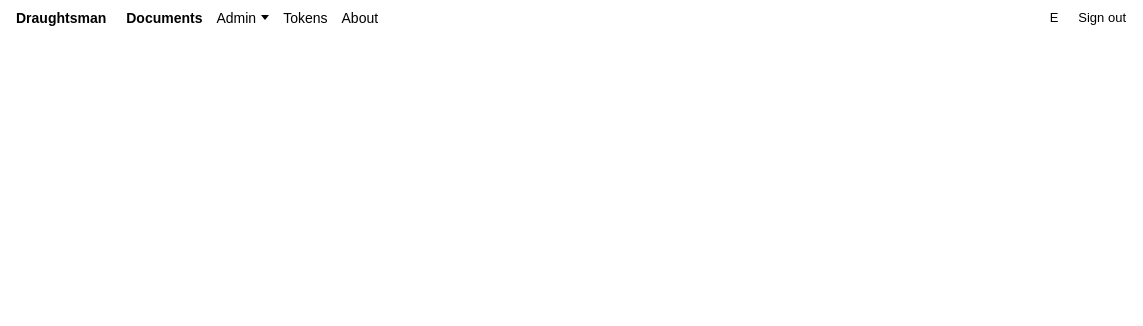
Test case: AppShell Admin menu (QA P18) › folds the admin pages into one Admin button, closed until asked
Check: the link "Users" is not shown
Check: the link "Branding" is not shown
Step 1. Click the button "Admin" → (243, 18), box x1=216 y1=10 x2=269 y2=26
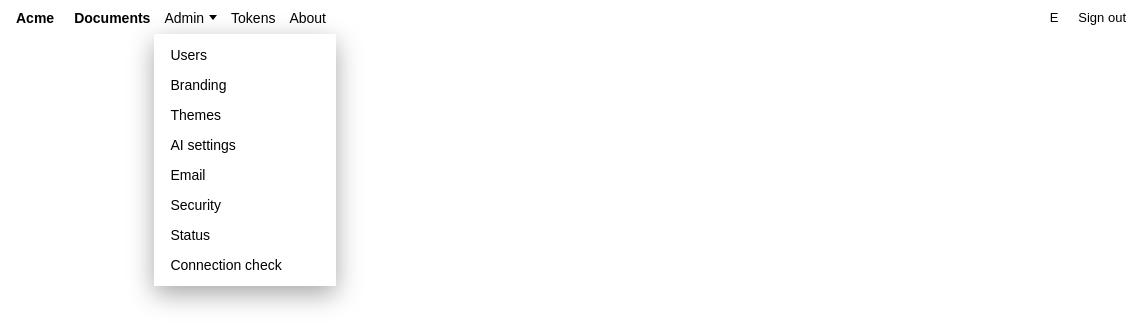
Check: the button "Admin" is expanded, box x1=164 y1=10 x2=217 y2=26
